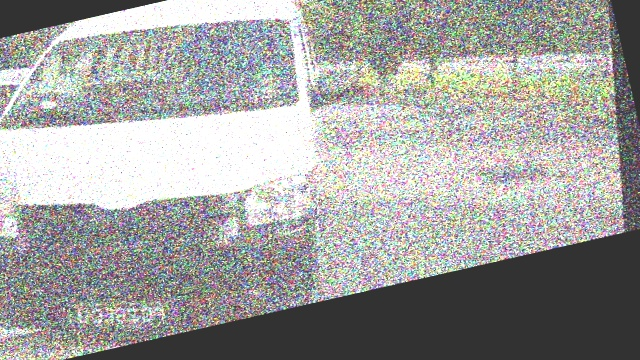van: (0, 0, 399, 360)
